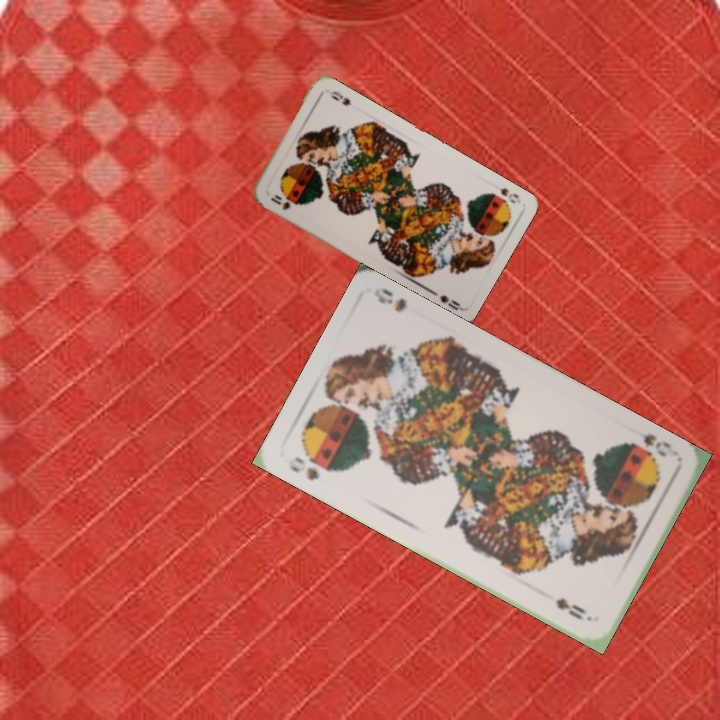SO: (622, 424, 675, 462), (285, 452, 322, 483), (267, 191, 300, 212), (496, 183, 522, 206)
